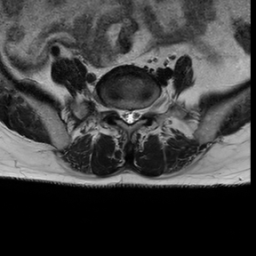CCS_normal: (126, 102, 134, 128)
LFS_normal: (142, 102, 150, 122)
LLS_normal: (134, 104, 142, 124)
RFS_stenosis: (110, 100, 118, 120)
RLS_normal: (118, 103, 126, 125)
